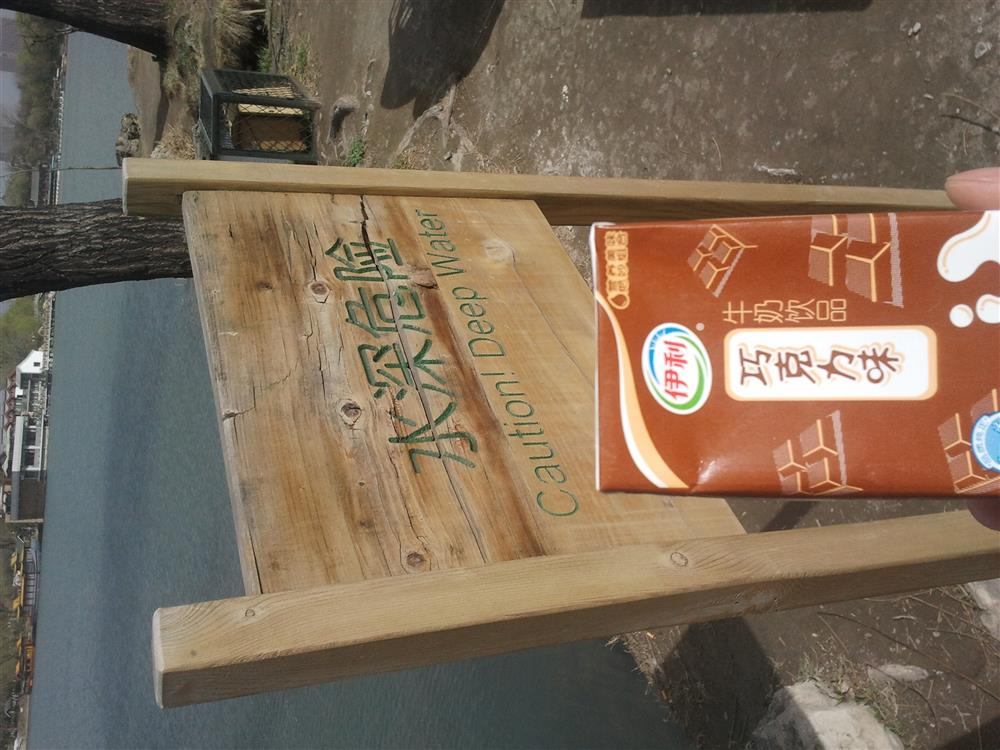Yeale: (595, 201, 997, 497)
